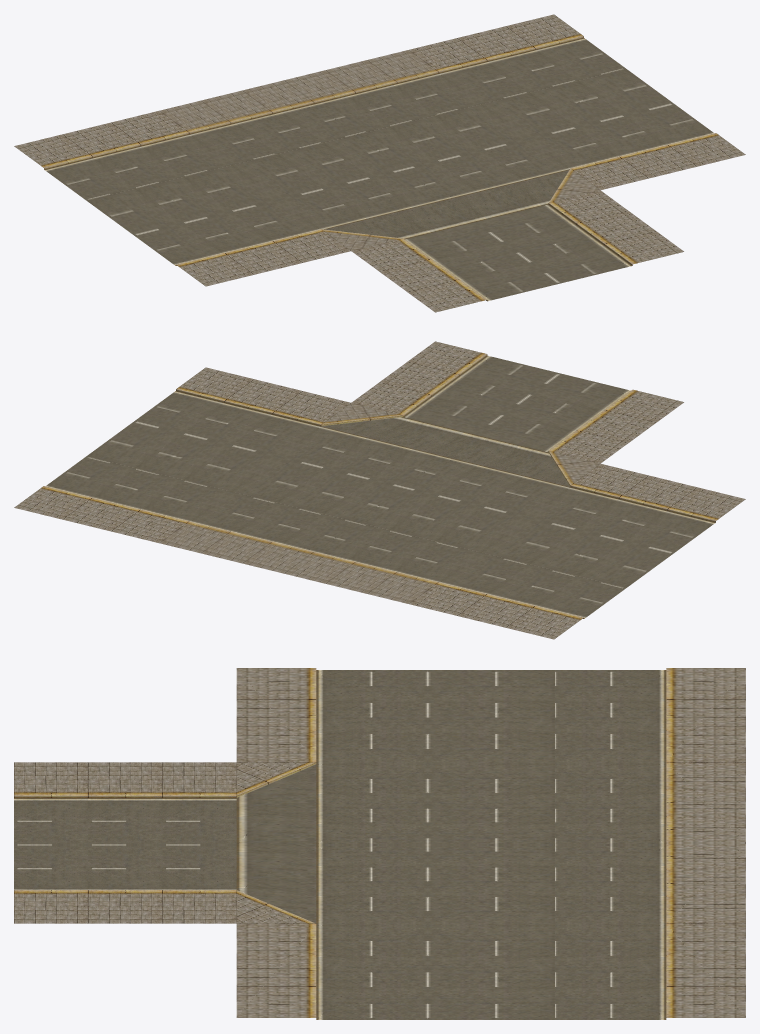
The model's file is Road2_Part_02_A.fbx.
3 views of the same model, one above another, from view 1: azimuth 30°, elevation 25°; view 2: azimuth 150°, elevation 25°; view 3: azimuth 270°, elevation 25° (orthographic). The views are drawn at different scales.
Parts seen in each view (by area): view 1: Road_Part_07; view 2: Road_Part_07; view 3: Road_Part_07.
Boxes of the visible parts, left/top/right/bottom form: Road_Part_07: left=14, top=14, right=745, bottom=312; Road_Part_07: left=14, top=341, right=745, bottom=639; Road_Part_07: left=14, top=668, right=745, bottom=1019.
Bounding box in the file's own units: 5200 × 13.63 × 4600.
